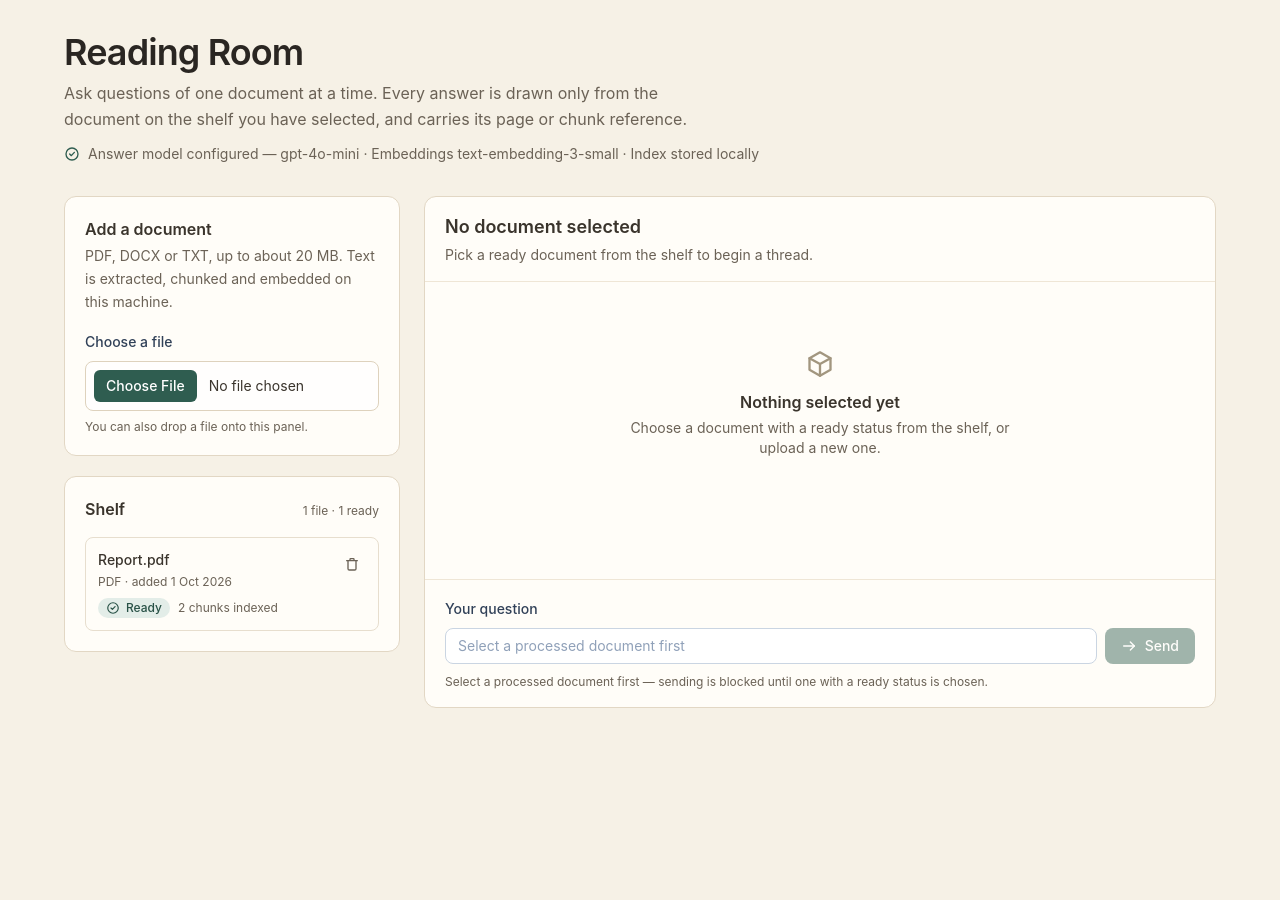
Home screen › AC-042: a fallback reply (is_fallback true, source null) renders no source reference element and shows the verbatim text only
Click the text "Report.pdf" at (134, 560), box [98,551,170,568]
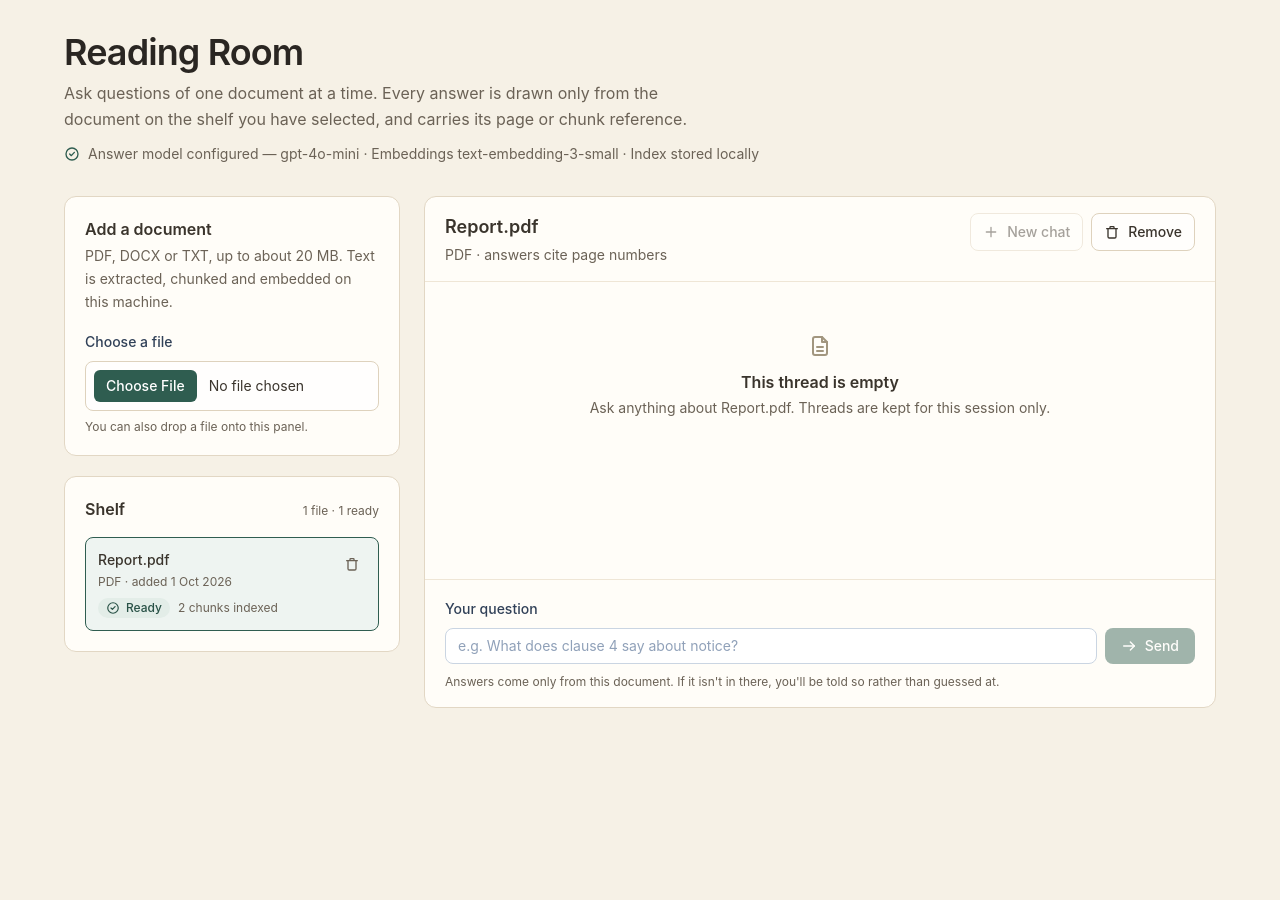
Type "What colour is the sky in the document?" into the field labelled "Your question" at (771, 646), box [445,628,1097,664]
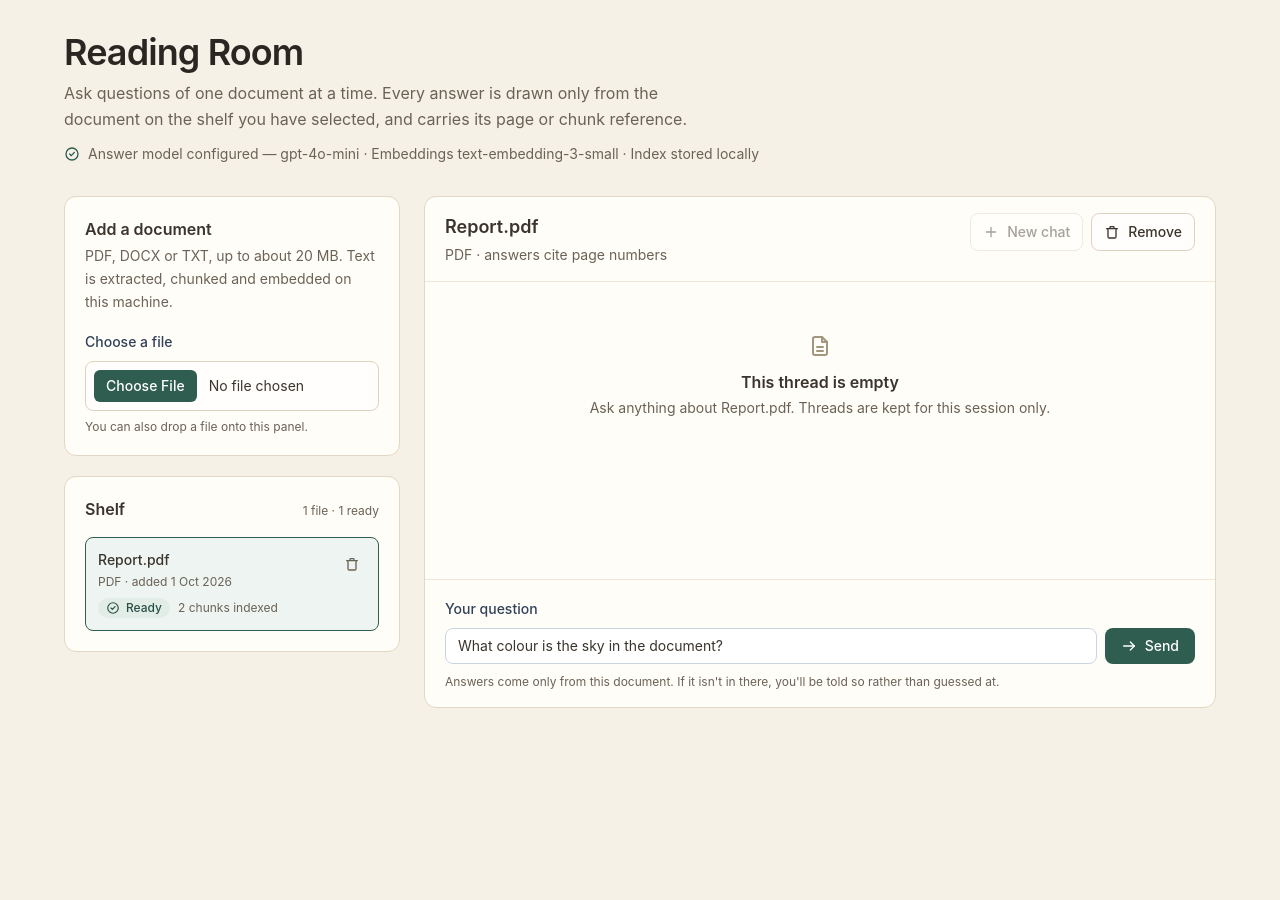
Submit the form labelled "Your question", box [425,578,1215,707]
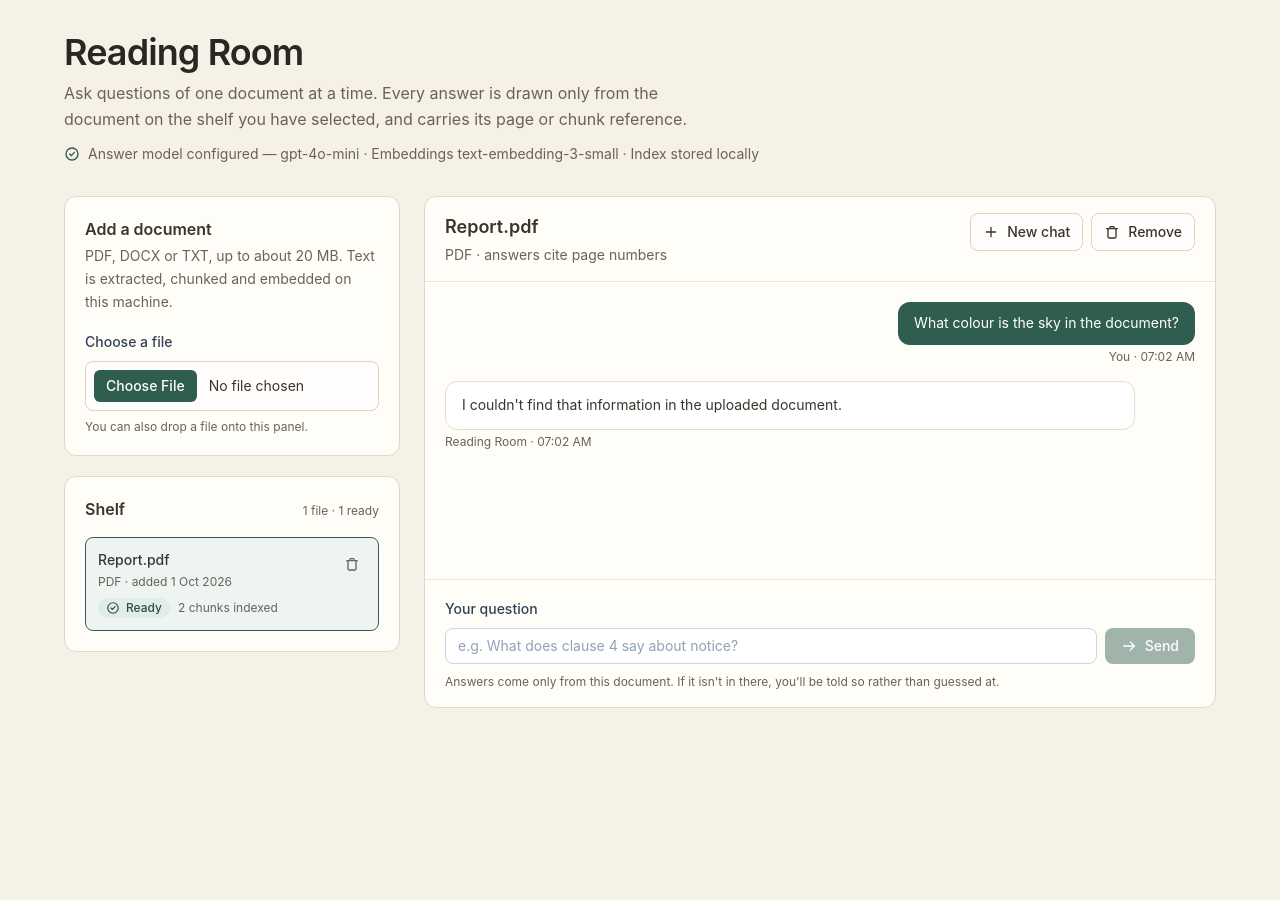
Now the text "I couldn't find that information in the uploaded document." is shown, box [462,396,842,413]
